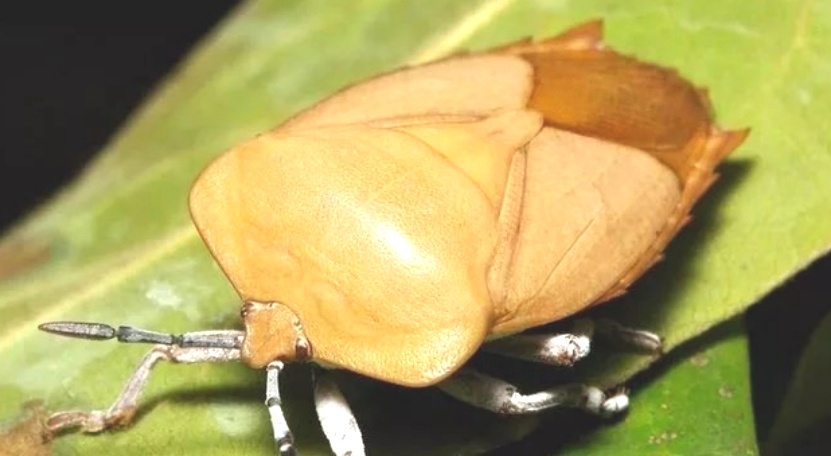Stink_Bug: (134, 38, 716, 395)
